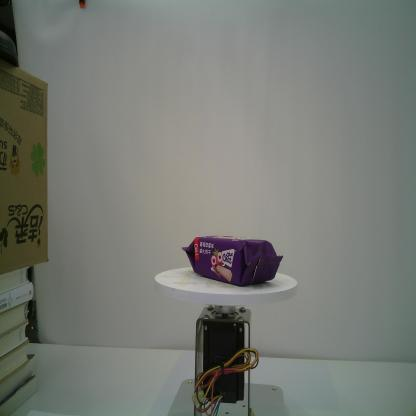Dessert: (180, 235, 284, 287)
